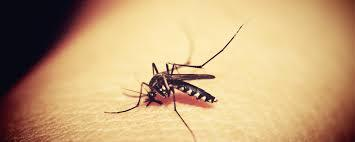Insects: (102, 14, 245, 142)
